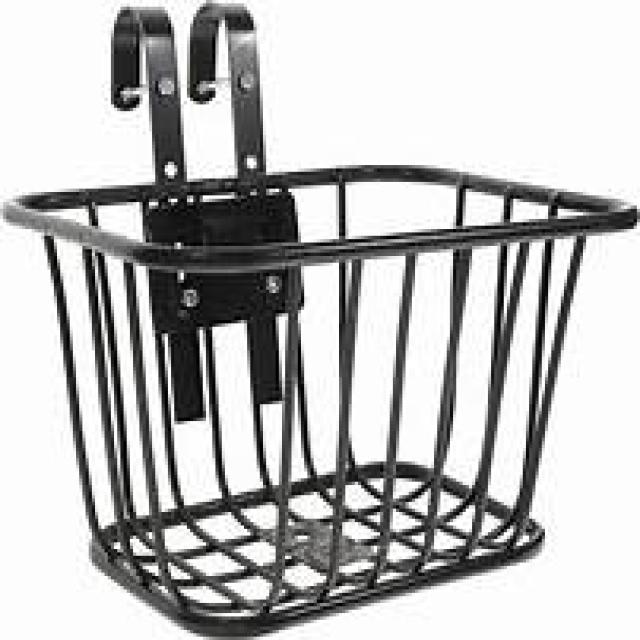basket: (3, 165, 640, 640)
